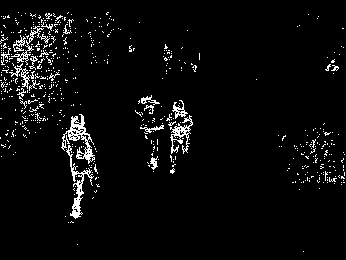person: (62, 112, 100, 224), (132, 90, 163, 171), (165, 97, 193, 177)
